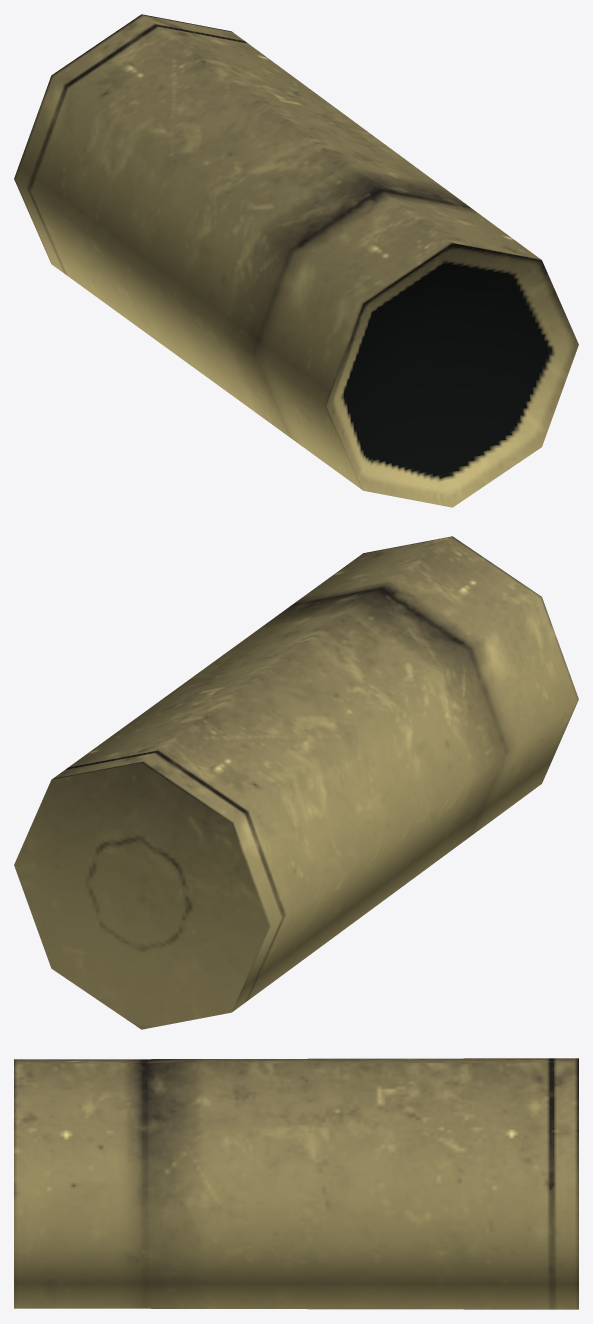
The model's file is SM_Cartridge.FBX.
3 views of the same model, one above another, from view 1: azimuth 30°, elevation 25°; view 2: azimuth 150°, elevation 25°; view 3: azimuth 270°, elevation 25° (orthographic). The views are drawn at different scales.
Parts seen in each view (by area): view 1: Cylinder001; view 2: Cylinder001; view 3: Cylinder001.
Boxes of the visible parts, bbox=[...] form: Cylinder001: bbox=[14, 14, 578, 507]; Cylinder001: bbox=[14, 536, 578, 1029]; Cylinder001: bbox=[14, 1058, 578, 1309].
Bounding box in the file's own units: 1.35 × 1.35 × 2.86.
Materials: 1 (1 with a texture image).
